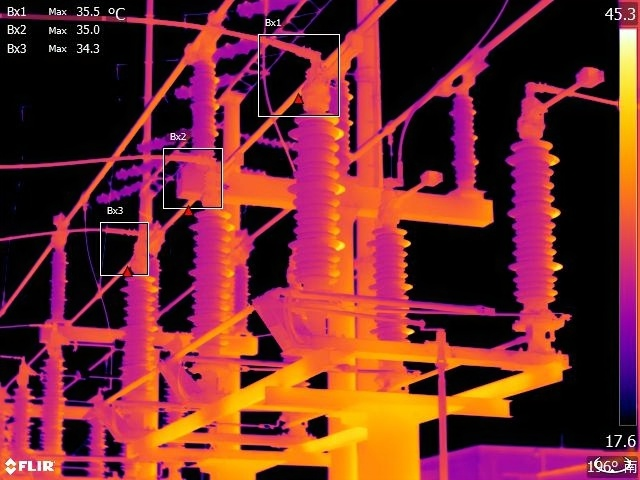insulator: (173, 70, 237, 100), (92, 175, 155, 203), (137, 124, 193, 151), (233, 1, 303, 21), (113, 155, 167, 180), (237, 132, 294, 153), (215, 34, 263, 58)
post insulator: (282, 109, 349, 288), (503, 134, 568, 310), (185, 207, 237, 356), (366, 220, 416, 363), (115, 270, 159, 400), (446, 91, 484, 184), (36, 352, 69, 455), (44, 248, 71, 322), (232, 261, 256, 332), (84, 418, 111, 480), (11, 386, 31, 454)
switch: (300, 26, 368, 111), (527, 60, 606, 119), (376, 162, 447, 221)
